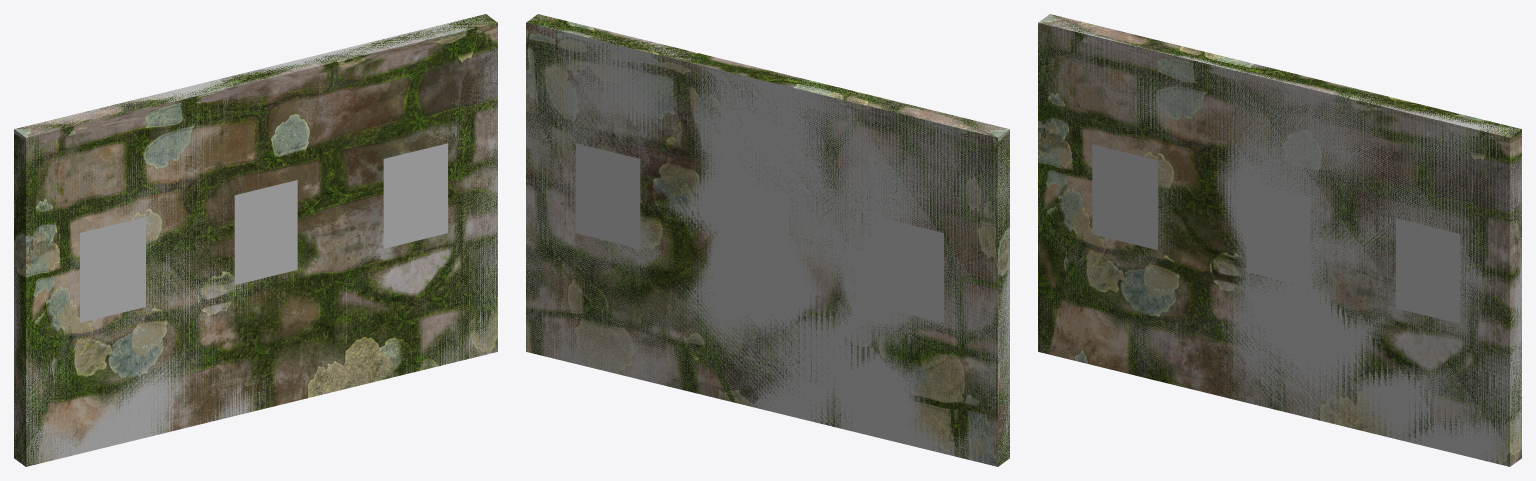
Rendered from SM_WallWindow03.fbx.
3 renders of one model, left to right at view 1: azimuth 30°, elevation 25°; view 2: azimuth 150°, elevation 25°; view 3: azimuth 330°, elevation 25°, orthographic.
Visible parts, largest first — view 1: SM_WallWindow03, SM_WallWindow03_ConvexHulls; view 2: SM_WallWindow03_ConvexHulls, SM_WallWindow03; view 3: SM_WallWindow03, SM_WallWindow03_ConvexHulls.
Boxes of the visible parts, bbox=[...] form: SM_WallWindow03: bbox=[14, 14, 497, 466]; SM_WallWindow03_ConvexHulls: bbox=[14, 15, 497, 466]; SM_WallWindow03_ConvexHulls: bbox=[526, 15, 1009, 465]; SM_WallWindow03: bbox=[526, 14, 1009, 466]; SM_WallWindow03: bbox=[1038, 14, 1521, 466]; SM_WallWindow03_ConvexHulls: bbox=[1038, 14, 1521, 466].
Bounding box in the file's own units: 600 × 26 × 400.
2 materials, 1 textured.
